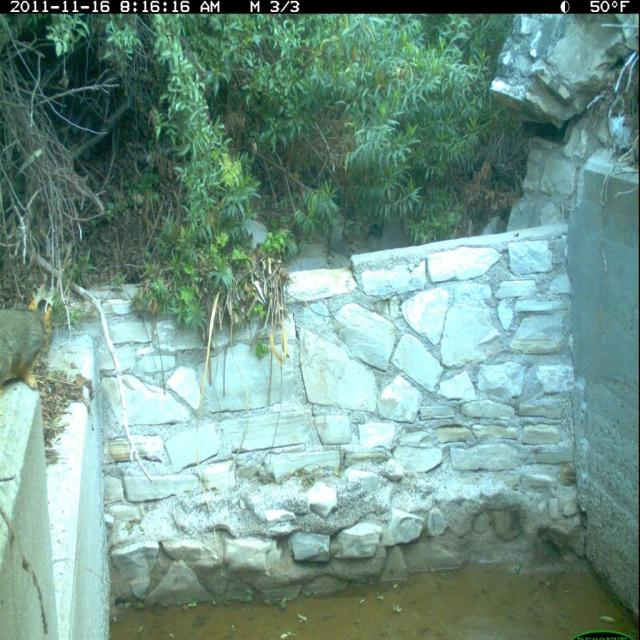squirrel: (1, 290, 57, 397)
